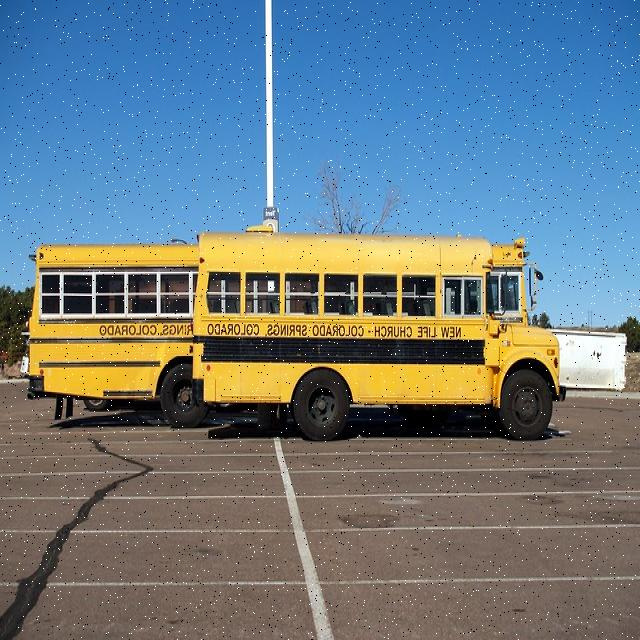Bus: (193, 217, 564, 439), (33, 242, 209, 422), (20, 330, 42, 394), (53, 396, 72, 420)
